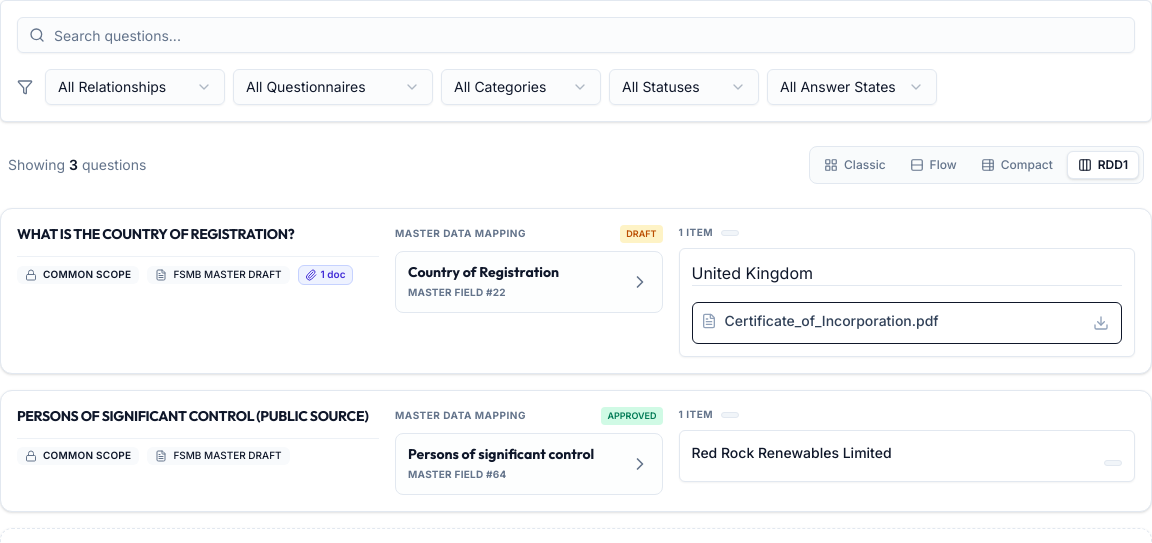
it: ONP-60: Fourth View Mode (rdd1) Contract & Workbench4 Invariants › 3. Mapping can be inspected and changed by an authorised user via the mapping action
Step 1. Click the button with test id "rdd1-mapping-tile-q-scalar-1" → (529, 282), box [395, 250, 662, 313]
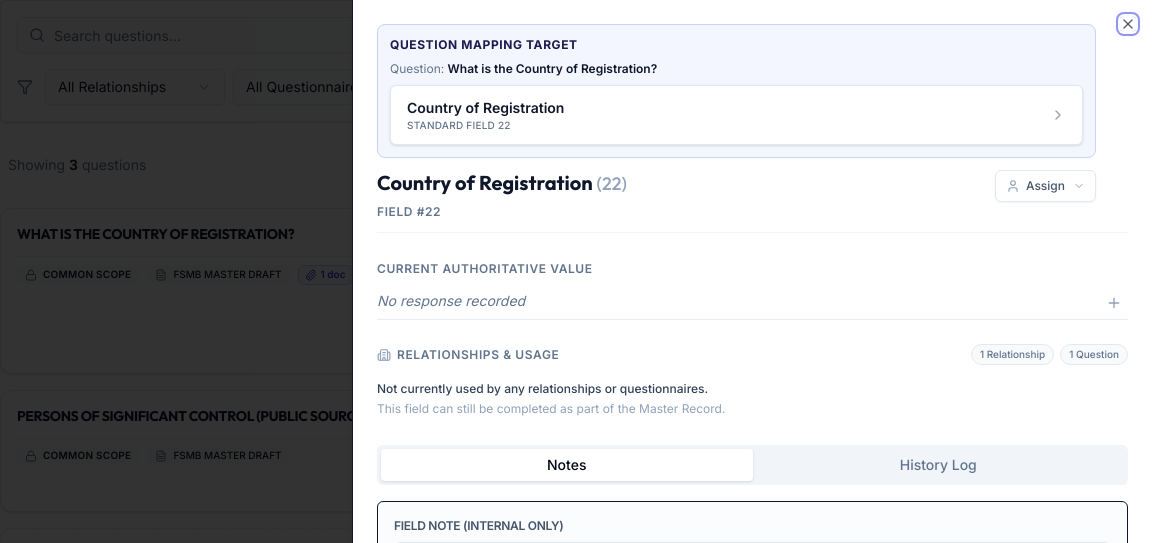
Expected: the element with test id "rdd1-alternative-mapping-selector" is shown, [377, 24, 1096, 158]
